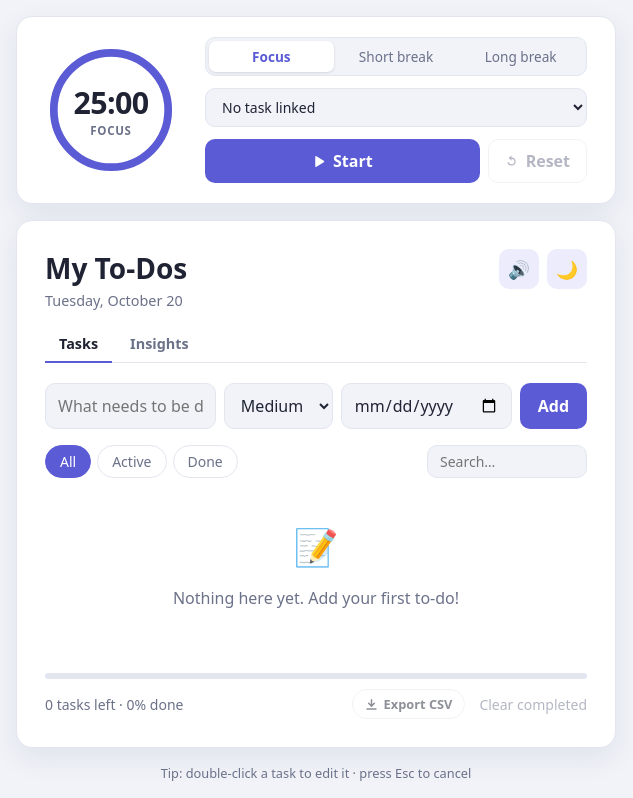
Test: App: managing to-dos › adds a task the user types
This screenshot has width=633, height=798.
Type "Buy milk" into the field named "New to-do" at [130, 406], box [45,383,216,429]
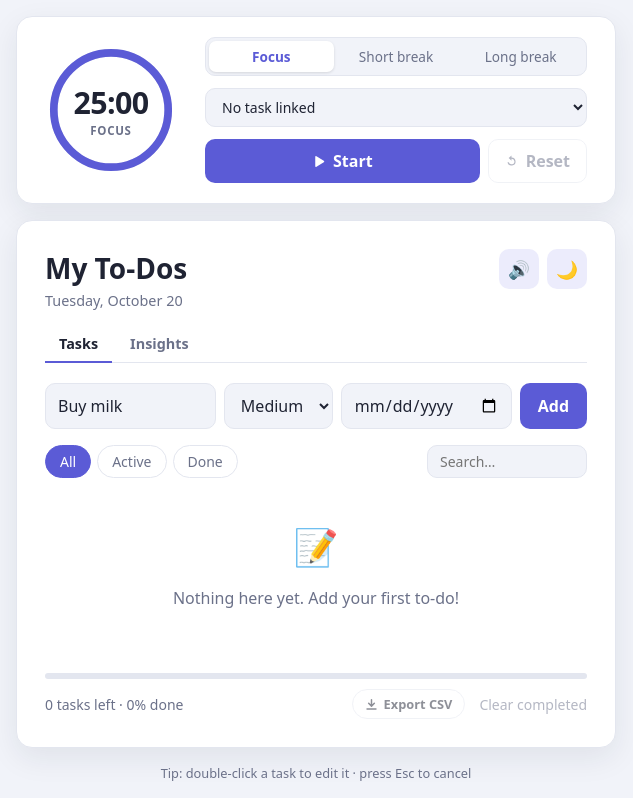
Click the button "Add" at [553, 406], box [520,383,587,429]
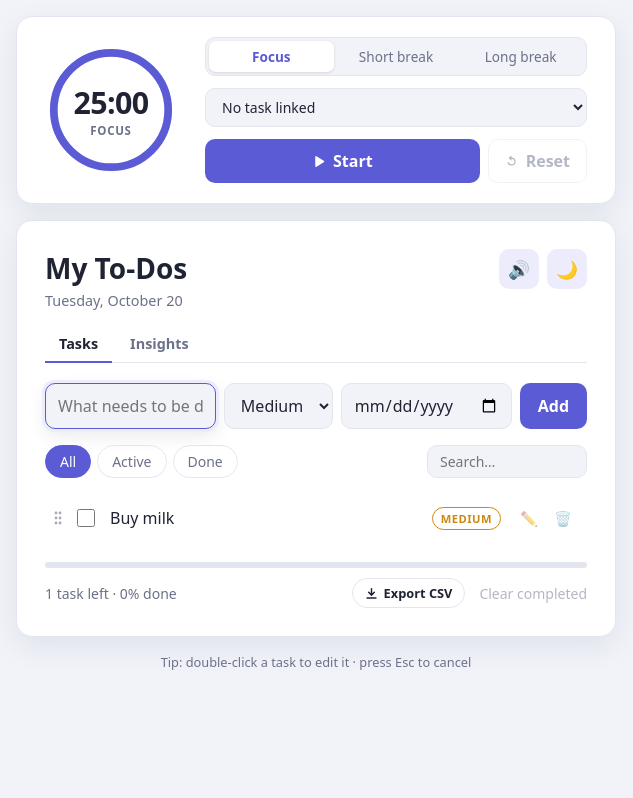
Expected: the number of list items is 1, [49,502,579,534]
Expected: the text "Buy milk" is shown, [110,507,174,529]
Expected: the text "Nothing here yet. Add your first to-do!" is gone
